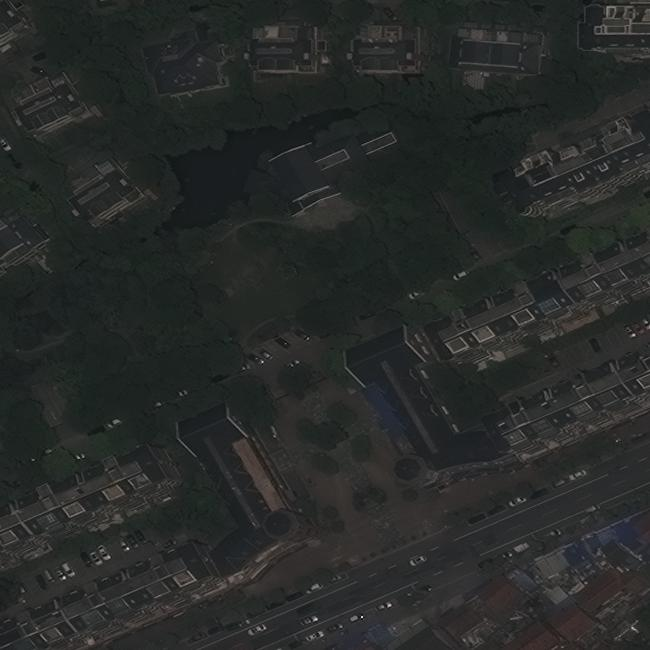parking lot: (245, 328, 314, 366)
